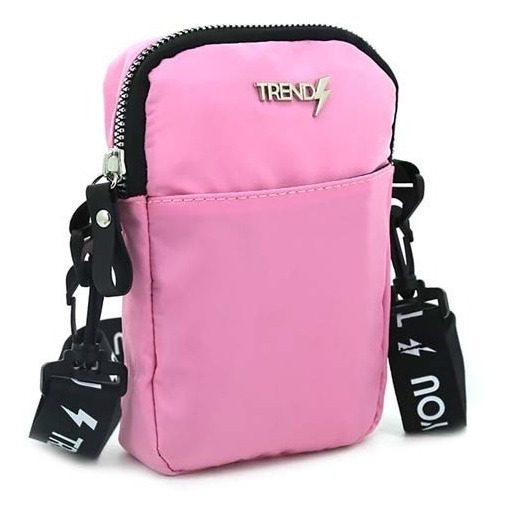cartera: (90, 17, 396, 478)
